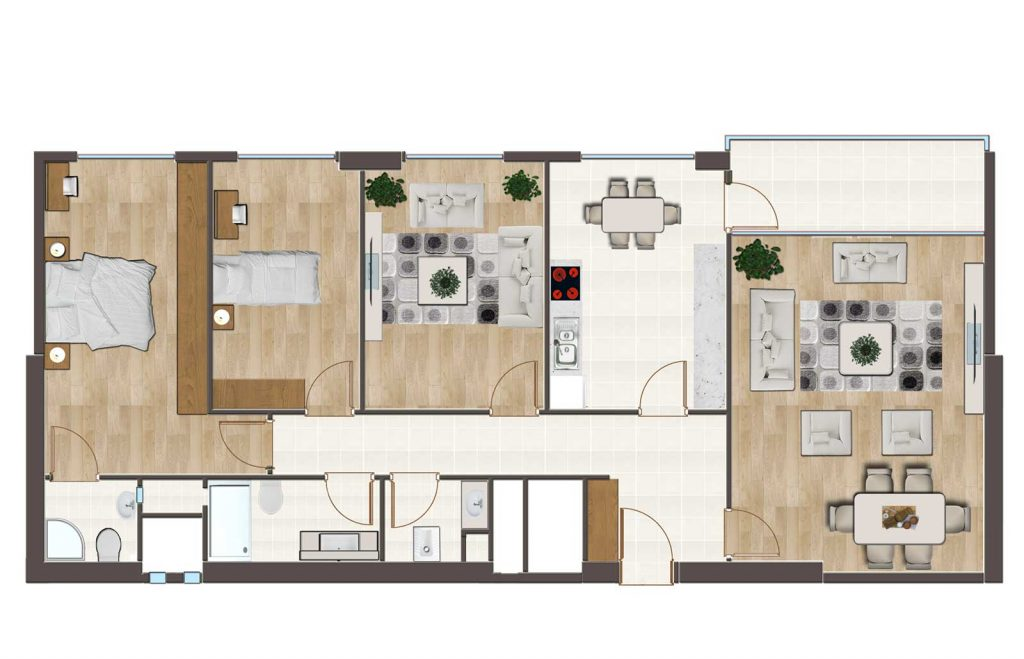balcony: (720, 129, 1000, 239)
door: (45, 424, 91, 475), (494, 356, 540, 407), (389, 483, 435, 534), (328, 479, 374, 530), (213, 415, 259, 466), (311, 350, 357, 401), (619, 502, 665, 553), (733, 181, 779, 232), (645, 353, 691, 404), (738, 508, 784, 559)
room: (720, 227, 997, 586), (29, 147, 215, 482), (359, 146, 552, 418), (539, 149, 734, 415), (209, 145, 366, 419), (200, 468, 384, 578), (35, 476, 208, 590), (376, 474, 496, 572)
window: (574, 149, 698, 166), (71, 150, 178, 165), (401, 149, 508, 164), (231, 149, 338, 164)
